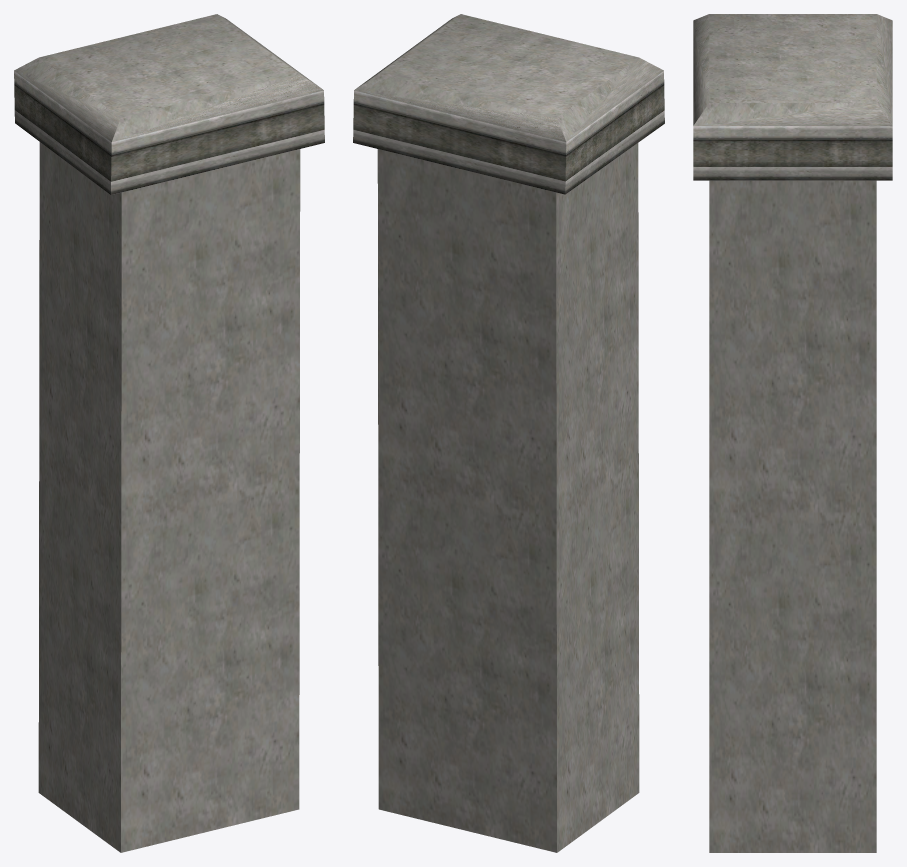
File: MAINHALL_THRONE_ARM01.fbx
3 views of the same model, side by side, from view 1: azimuth 30°, elevation 25°; view 2: azimuth 150°, elevation 25°; view 3: azimuth 270°, elevation 25° (orthographic). The views are drawn at different scales.
Visible parts, largest first — view 1: MAINHALL_THRONE_ARM01; view 2: MAINHALL_THRONE_ARM01; view 3: MAINHALL_THRONE_ARM01.
Boxes of the visible parts, x1=… form: MAINHALL_THRONE_ARM01: x1=14, y1=14, x2=324, y2=852; MAINHALL_THRONE_ARM01: x1=353, y1=14, x2=664, y2=852; MAINHALL_THRONE_ARM01: x1=693, y1=14, x2=892, y2=852.
Size of the model in its own units: 14401 by 47253 by 11384.
Materials: 3 (3 with a texture image).
